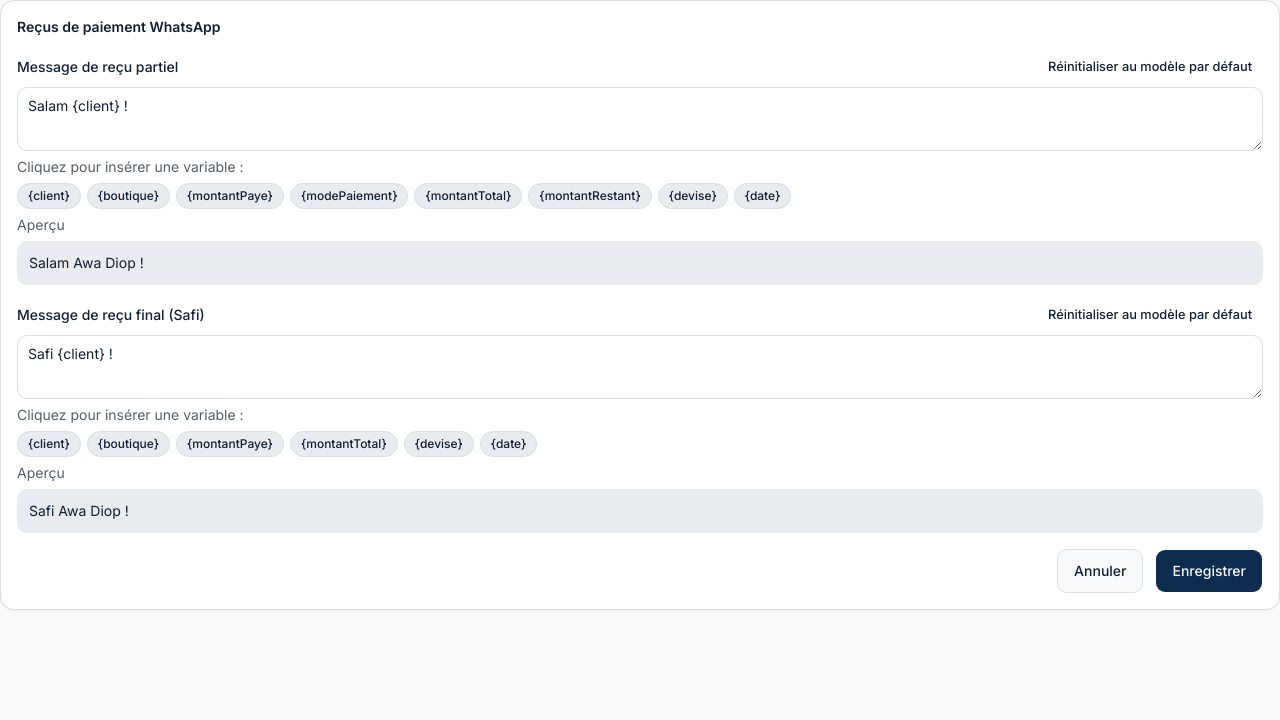
Test: ReceiptTemplatesSettingsForm › un clic sur une variable l'insère dans le bon champ à la position du curseur
Click the button "{boutique}" below "Message de reçu final (Safi)" at (128, 444), box 87,431 -> 170,457
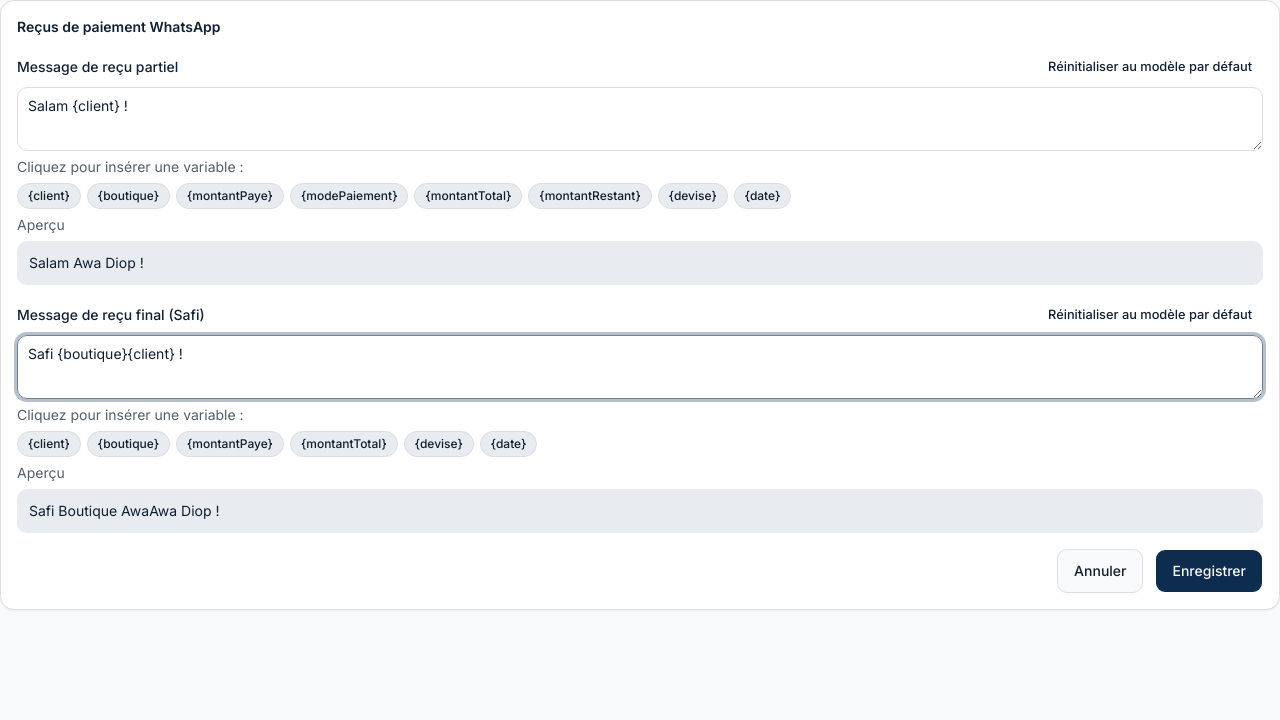
Expected: the text box labelled "Message de reçu partiel" holds "Salam {client} !", 17,87 -> 1263,151
Expected: the text box labelled "Message de reçu final (Safi)" holds "Safi {boutique}{client} !", 17,335 -> 1263,399
